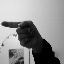g: (1, 19, 43, 51)
